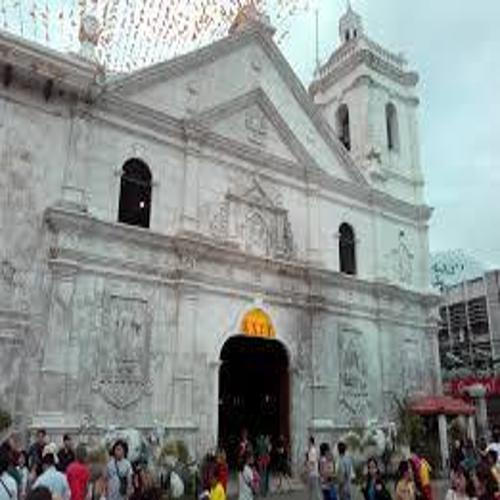Sto. Nino Basilica Church: (88, 2, 441, 484)
